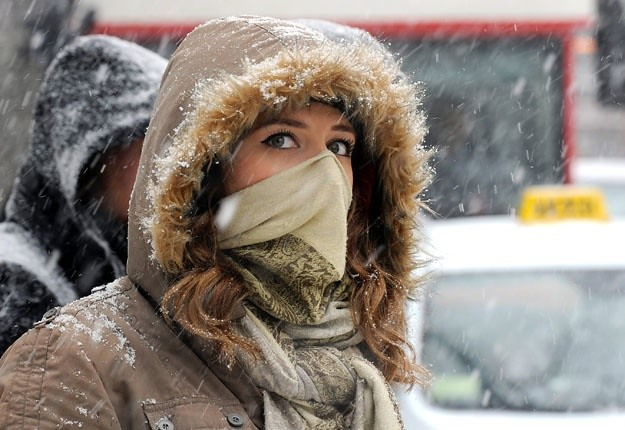face_with_mask: (202, 67, 363, 288)
